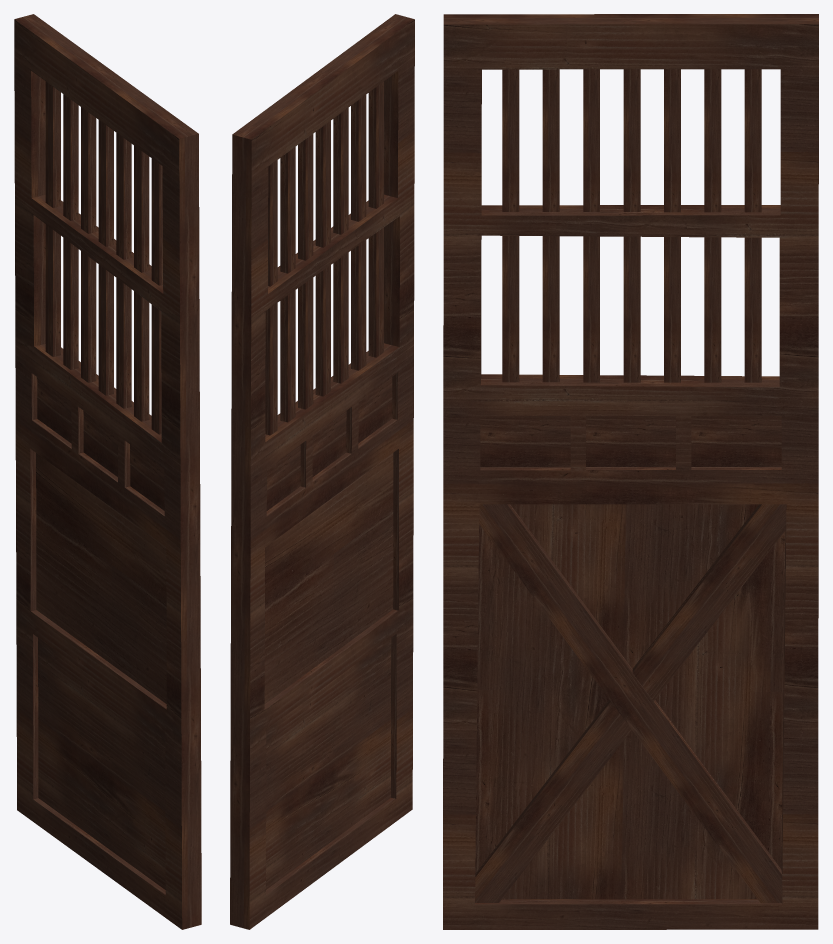
Rendered from SM_D_Gate_5_2.fbx.
3 renders of one model, left to right at view 1: azimuth 30°, elevation 25°; view 2: azimuth 150°, elevation 25°; view 3: azimuth 270°, elevation 25°, orthographic. The views are drawn at different scales.
Visible parts, largest first — view 1: SM_D_Gate_5_2; view 2: SM_D_Gate_5_2; view 3: SM_D_Gate_5_2.
Boxes of the visible parts, x1,y1,x2,y2 form: SM_D_Gate_5_2: [14, 14, 201, 929]; SM_D_Gate_5_2: [230, 14, 414, 929]; SM_D_Gate_5_2: [443, 14, 818, 929].
Bounding box in the file's own units: 12.46 × 150 × 398.
1 material, 1 textured.
